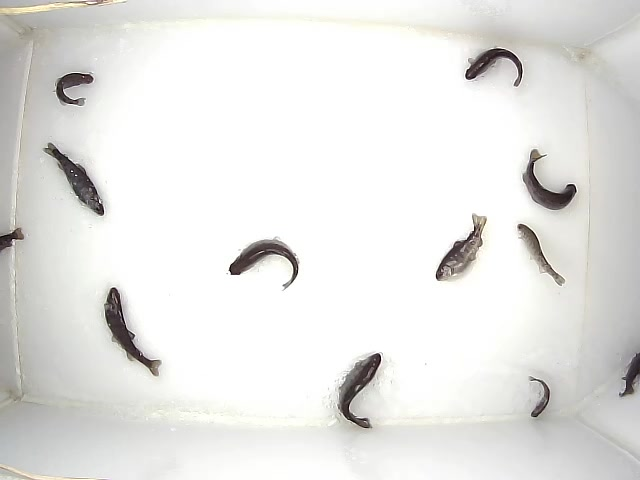fish: (104, 287, 162, 377), (42, 142, 104, 216), (229, 236, 298, 291), (436, 213, 487, 281), (522, 149, 577, 210), (337, 353, 381, 429), (517, 224, 565, 286), (465, 48, 523, 87), (52, 73, 94, 106), (619, 351, 640, 397), (529, 376, 550, 417)
